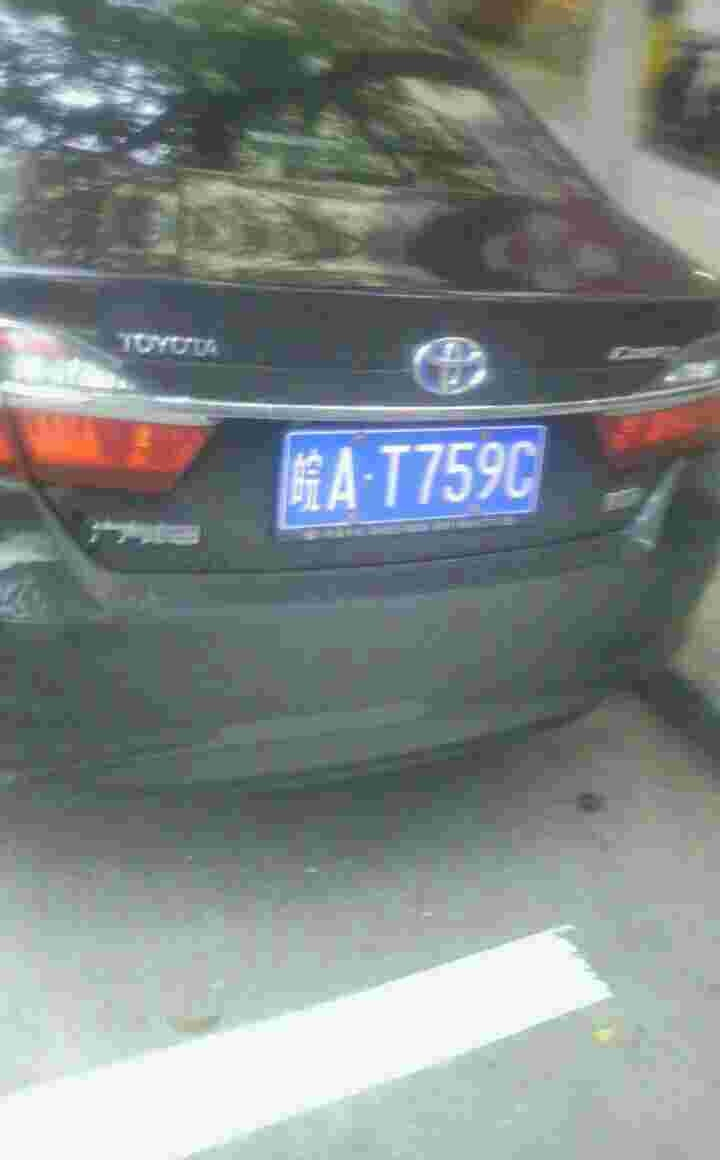license_plate: (283, 432, 541, 531)
